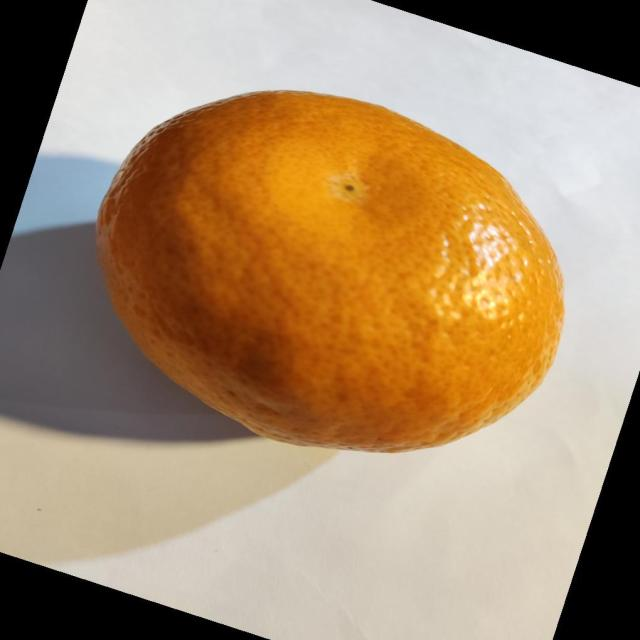fresh orange: (94, 88, 565, 454)
